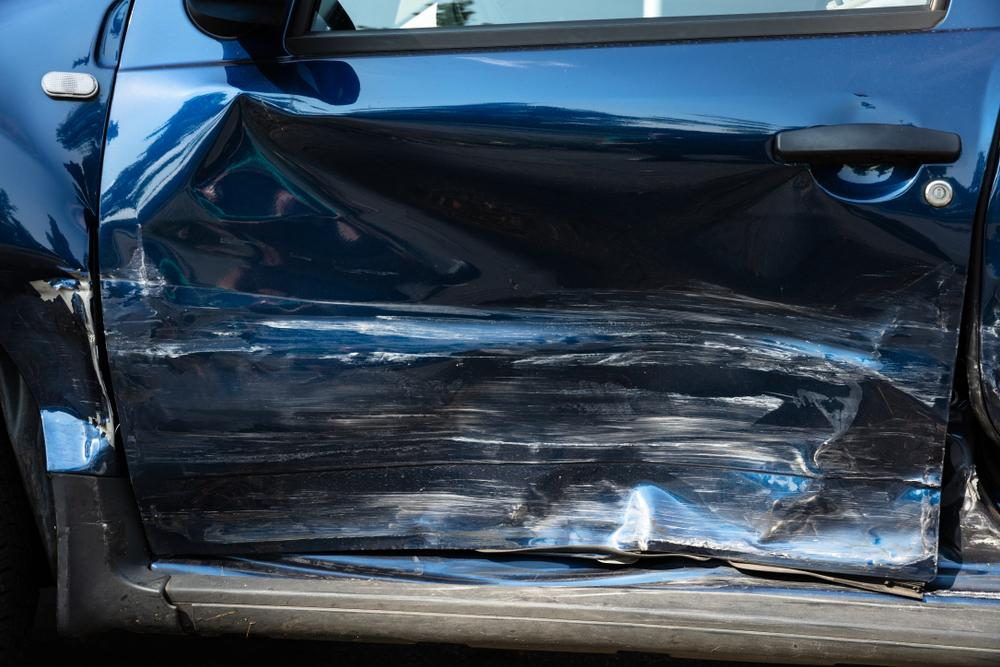dent: (97, 96, 962, 568), (0, 302, 113, 470)
